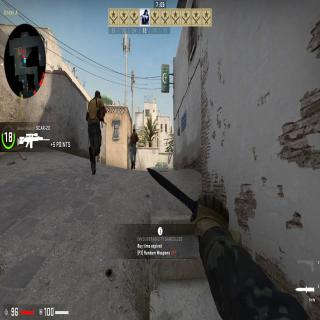T-Body: (86, 90, 107, 175), (129, 128, 139, 170)
T-Head: (95, 90, 101, 99), (132, 129, 136, 133)
